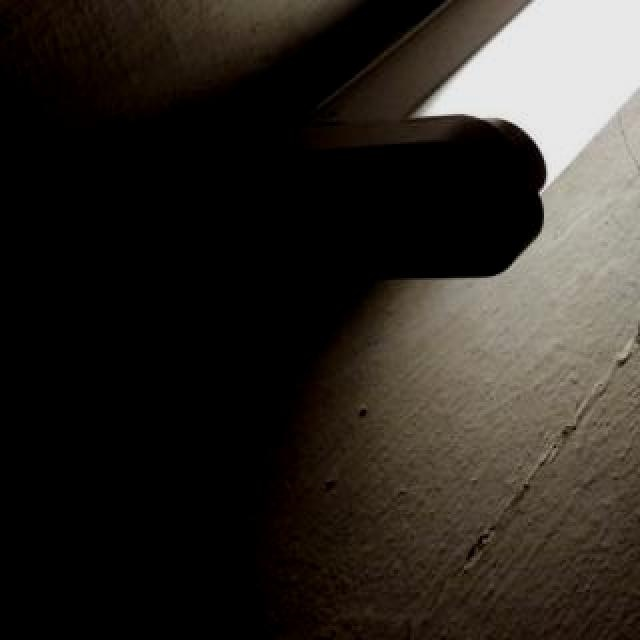fluorescent tube: (354, 0, 640, 282)
